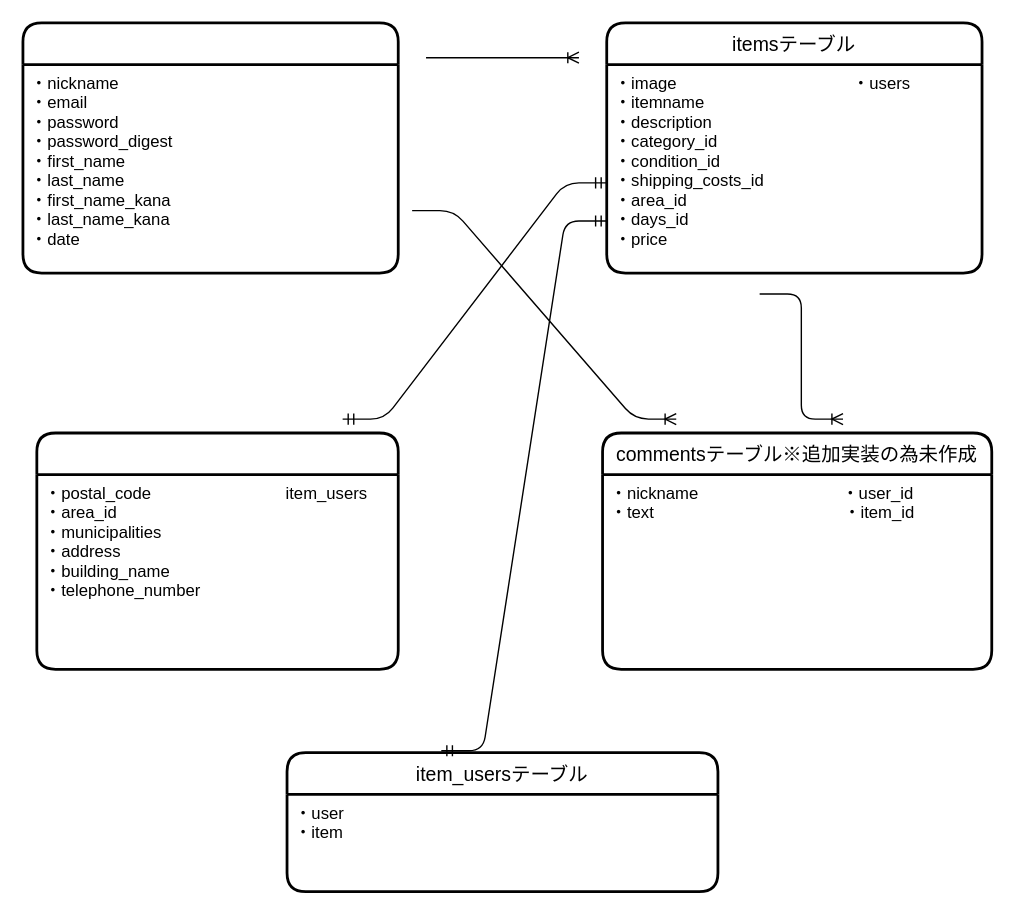
Some shapes in this 1015 by 915 pixel diagram are drawn without their labels. Each missing label, with the box of its shape:
buysテーブル: (35, 431, 399, 670)
usersテーブル: (21, 21, 399, 274)
